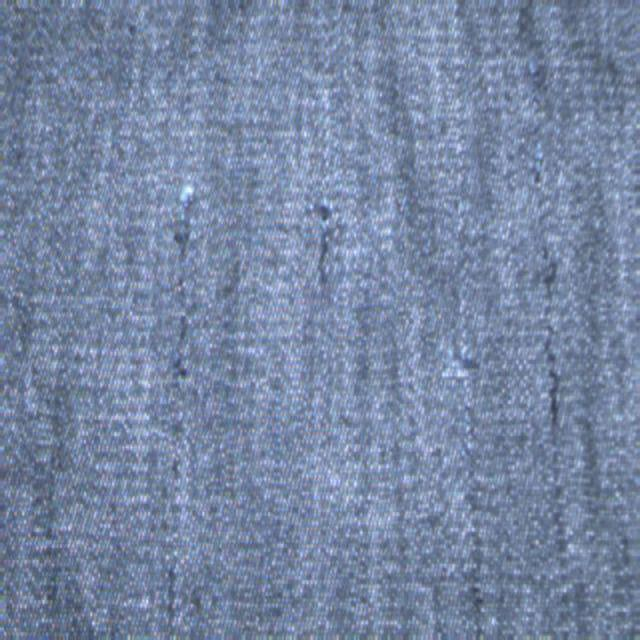defect: (161, 186, 195, 631), (312, 195, 336, 285)
